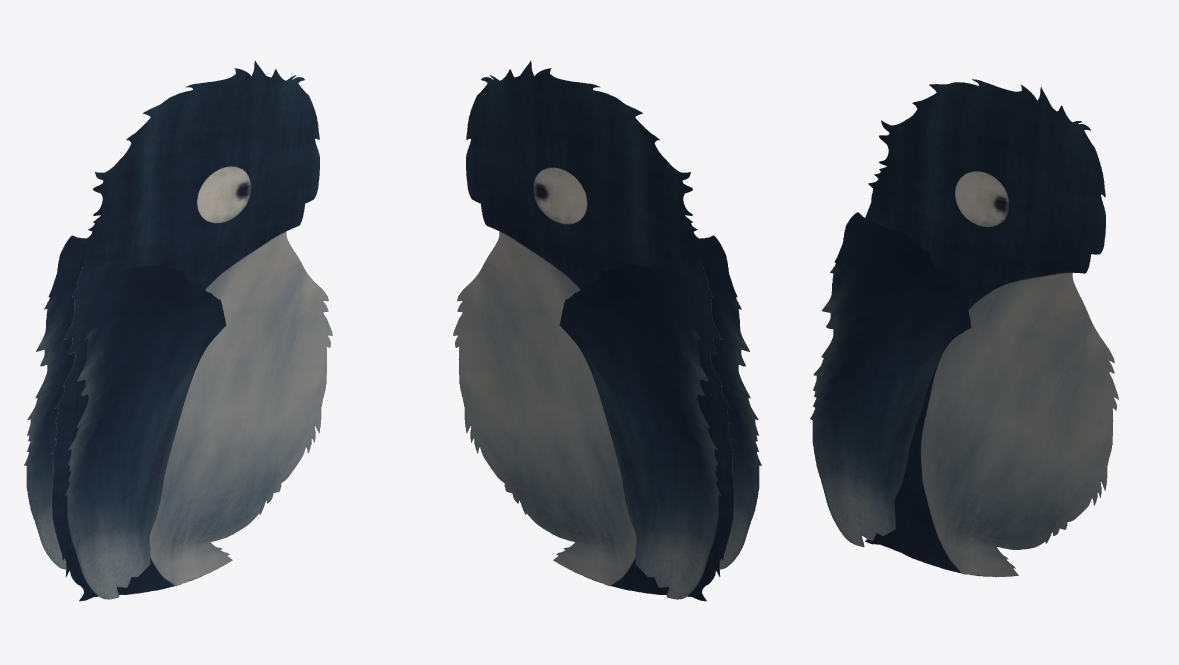
The model's file is Character_Test.fbx.
3 renders of one model, left to right at view 1: azimuth 30°, elevation 25°; view 2: azimuth 150°, elevation 25°; view 3: azimuth 330°, elevation 25°, orthographic.
Visible parts, largest first — view 1: Character_Test2; view 2: Character_Test2; view 3: Character_Test2.
Boxes of the visible parts, left/top/right/bottom form: Character_Test2: left=24, top=60, right=332, bottom=601; Character_Test2: left=453, top=60, right=761, bottom=601; Character_Test2: left=810, top=79, right=1118, bottom=577.
Bounding box in the file's own units: 3.79 × 5.62 × 0.7556.
